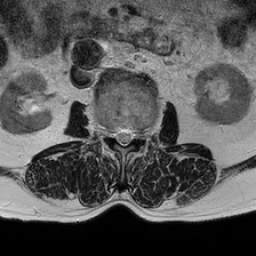CCS_normal: (121, 120, 126, 154)
LFS_normal: (134, 122, 144, 144)
LLS_normal: (126, 122, 134, 146)
RFS_normal: (107, 121, 114, 144)
RLS_normal: (114, 123, 121, 145)
